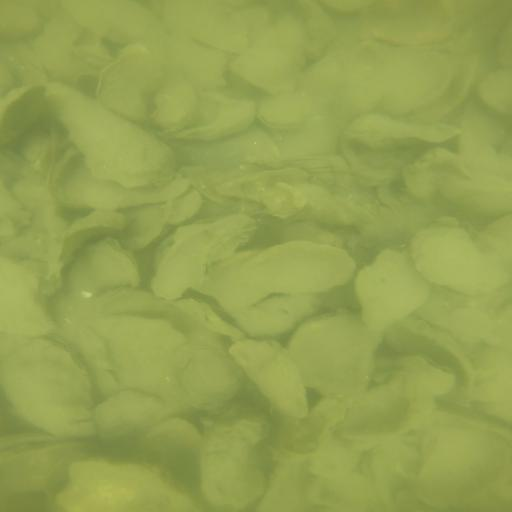Oyster-Closed: (52, 88, 174, 187), (205, 242, 354, 304), (84, 318, 188, 406), (154, 214, 260, 298), (411, 425, 512, 511), (6, 338, 95, 435), (55, 459, 201, 512), (199, 411, 272, 510), (288, 312, 372, 398), (60, 161, 198, 211), (362, 48, 457, 118), (57, 1, 172, 55), (230, 340, 307, 420), (357, 249, 430, 332), (413, 224, 499, 293), (235, 15, 308, 96), (97, 46, 161, 124), (1, 256, 60, 338), (160, 97, 259, 144), (72, 239, 143, 296), (238, 295, 330, 337), (96, 390, 168, 442), (367, 3, 452, 44), (182, 346, 238, 408), (152, 79, 195, 132)
Oyster-Open: (348, 114, 471, 151), (379, 353, 458, 402), (172, 287, 244, 337), (256, 97, 312, 131)
